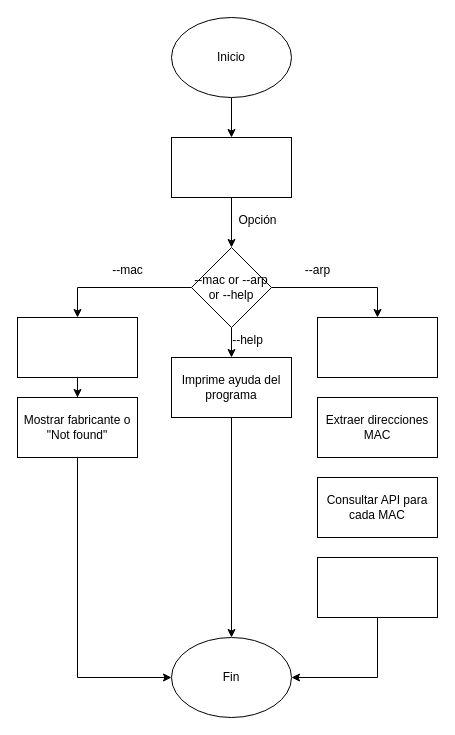
The diagram is 455 pixels wide and 735 high, and some of its shapes have lost their labels. Here are the shapes that lost their labels. From the top down, the box of each, then its label:
(170, 136, 292, 198): Procesar argumentos de la linea de comandos
(16, 316, 138, 378): Consultar API on dirección MAC
(316, 316, 438, 378): Ejecutar apr -a
(316, 556, 438, 618): Mostrar MAC/Vendor
